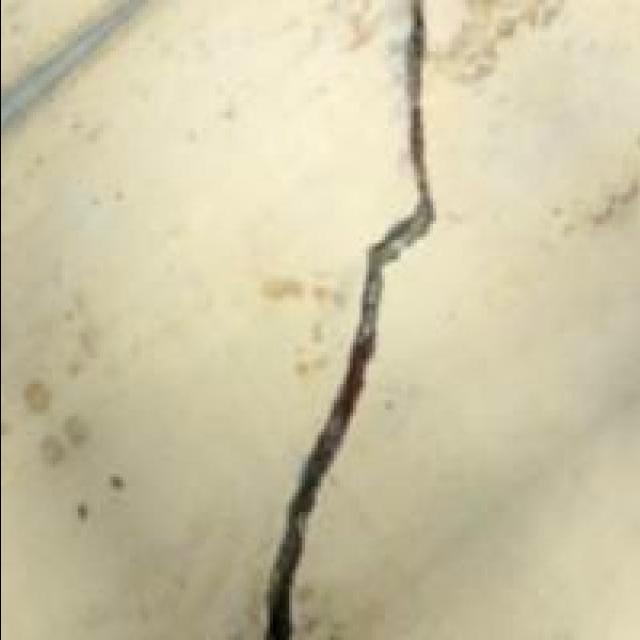SurfaceCrack: (234, 0, 462, 640)
